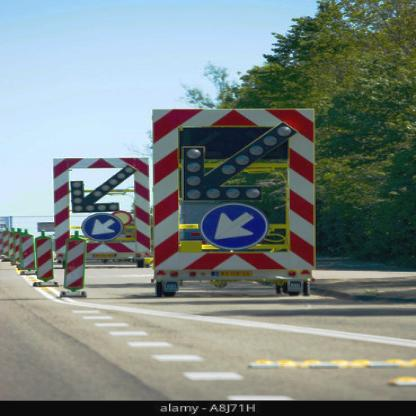Keep left: (199, 200, 270, 250), (82, 212, 124, 244)
